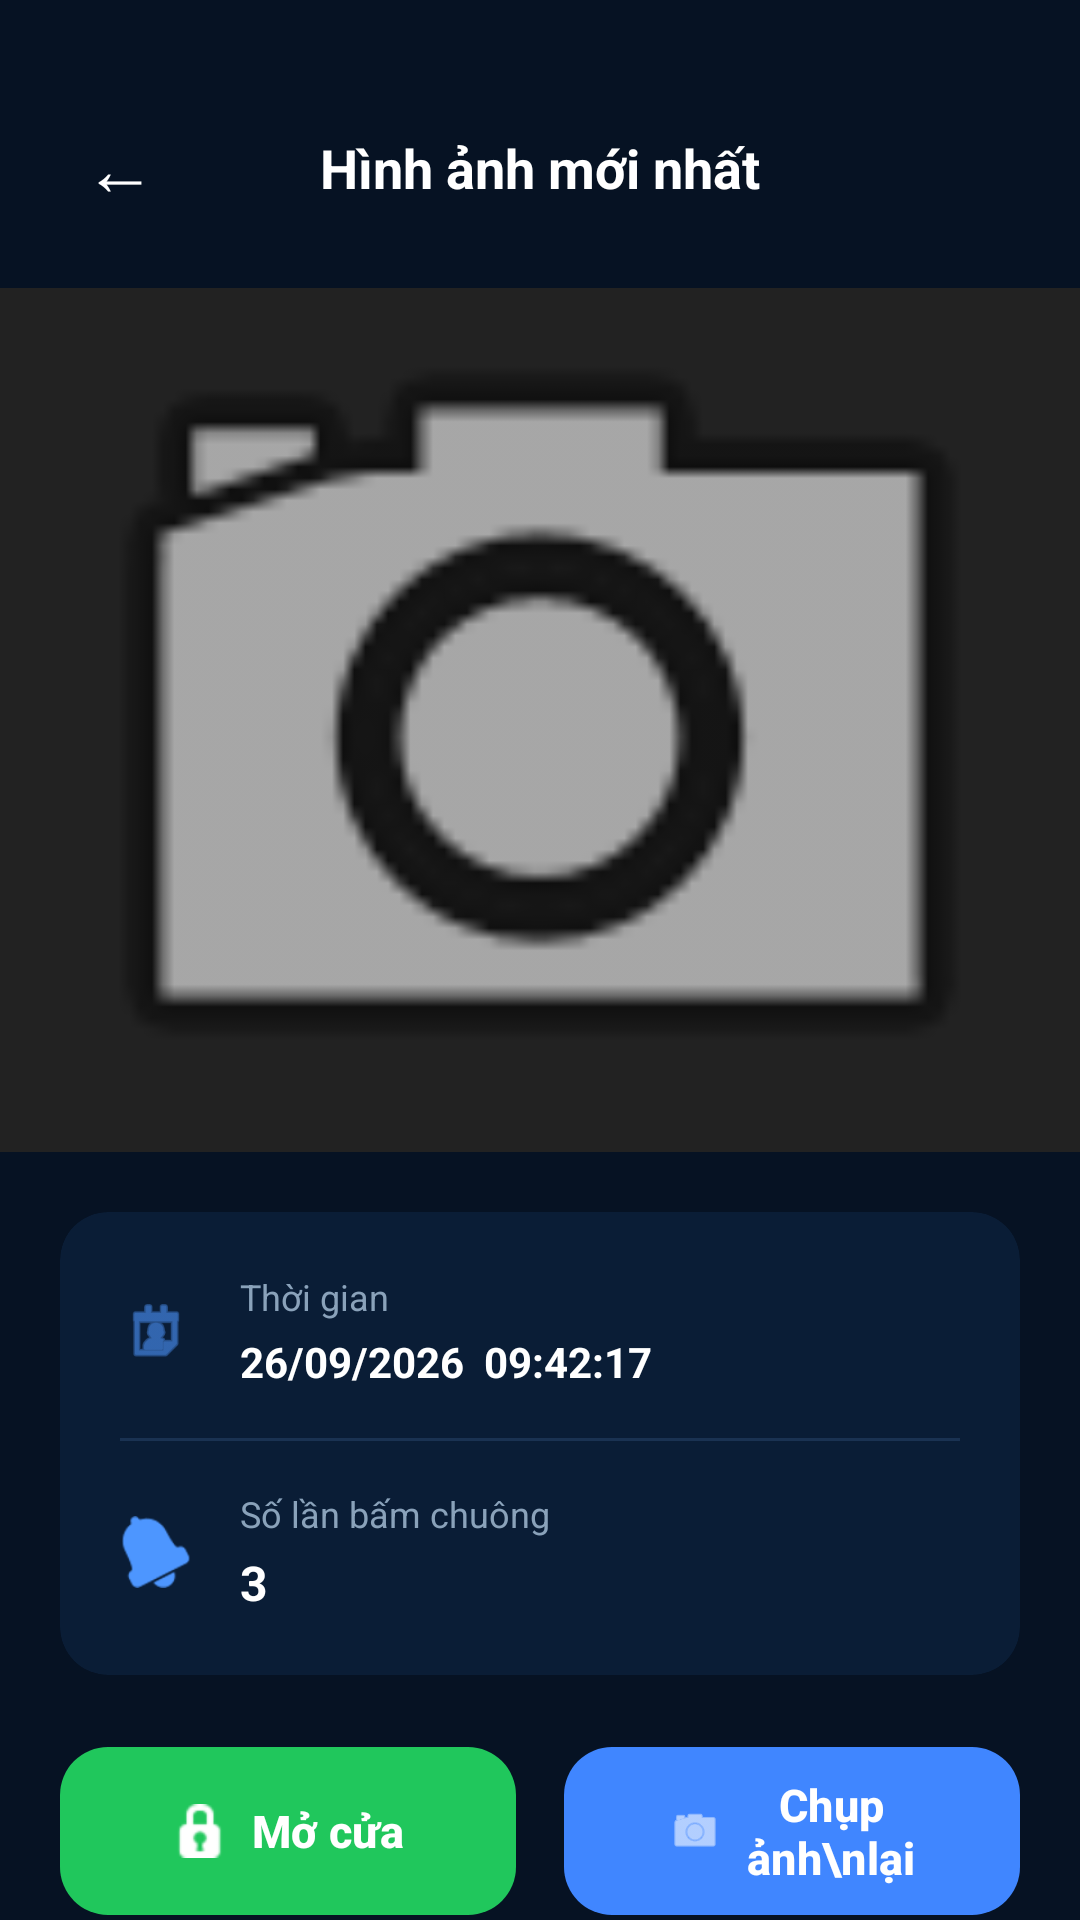

Icon click points for this 1080 x 1920 phone screenshot, format [x,y]:
calendar: [156,1330]
popup reminder: [156,1552]
